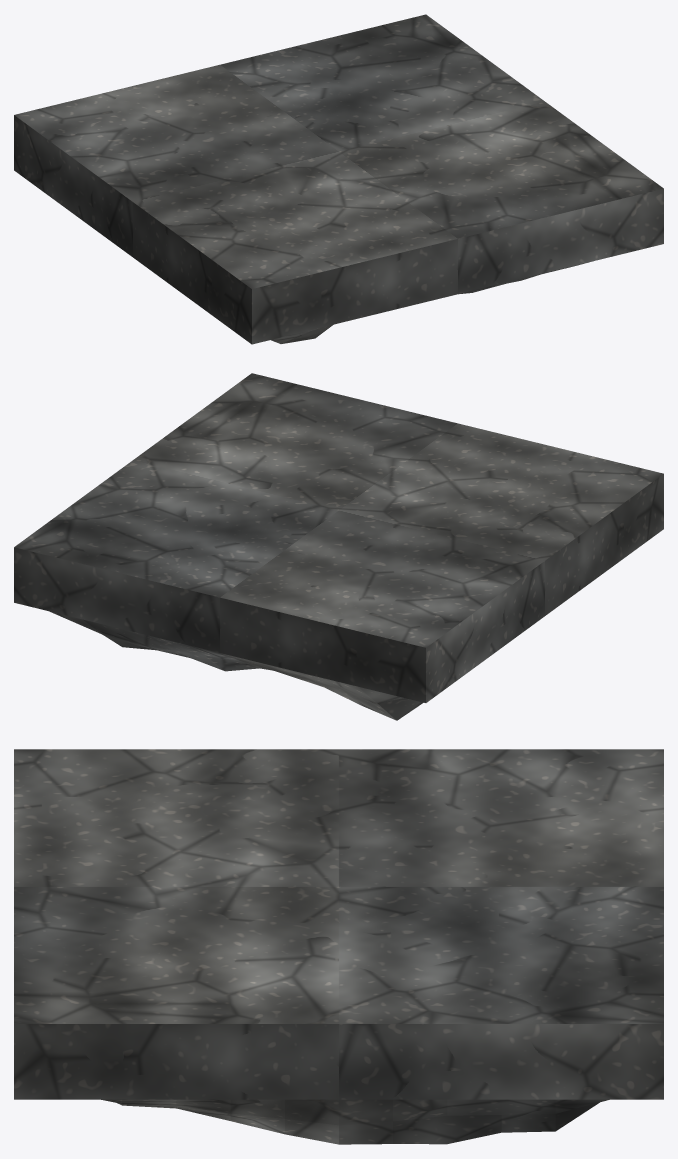
Rendered from kit_ceiling_cave.glb.
3 views of the same model, one above another, from view 1: azimuth 30°, elevation 25°; view 2: azimuth 150°, elevation 25°; view 3: azimuth 270°, elevation 25° (orthographic). The views are drawn at different scales.
Visible parts, largest first — view 1: kit_ceiling_cave; view 2: kit_ceiling_cave; view 3: kit_ceiling_cave.
Boxes of the visible parts, x1,y1,x2,y2 form: kit_ceiling_cave: (14,14,663,344); kit_ceiling_cave: (14,373,663,720); kit_ceiling_cave: (14,749,663,1144).
Size of the model in its own units: 2.8 by 0.7907 by 2.8.
Materials: 1 (1 with a texture image).
